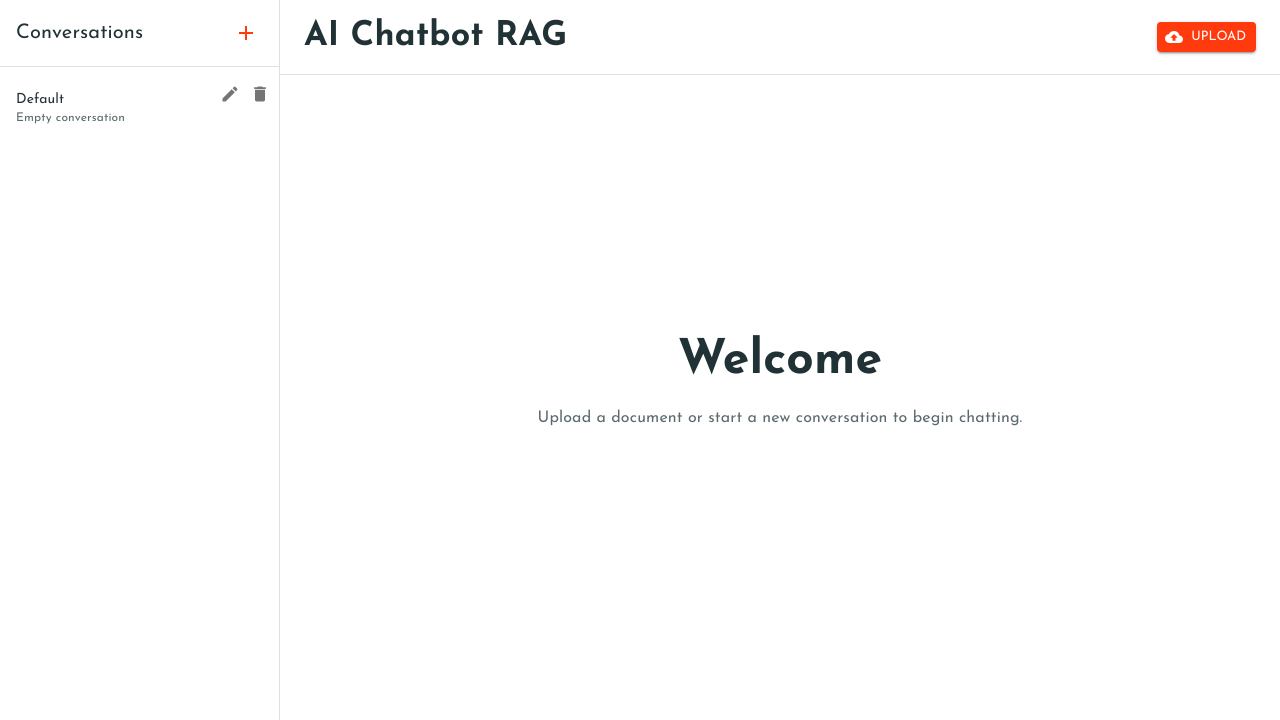
Test case: Home page › shows uploaded files for active conversation
Click the text "Default" at point(40, 100), box left=16, top=92, right=64, bottom=107
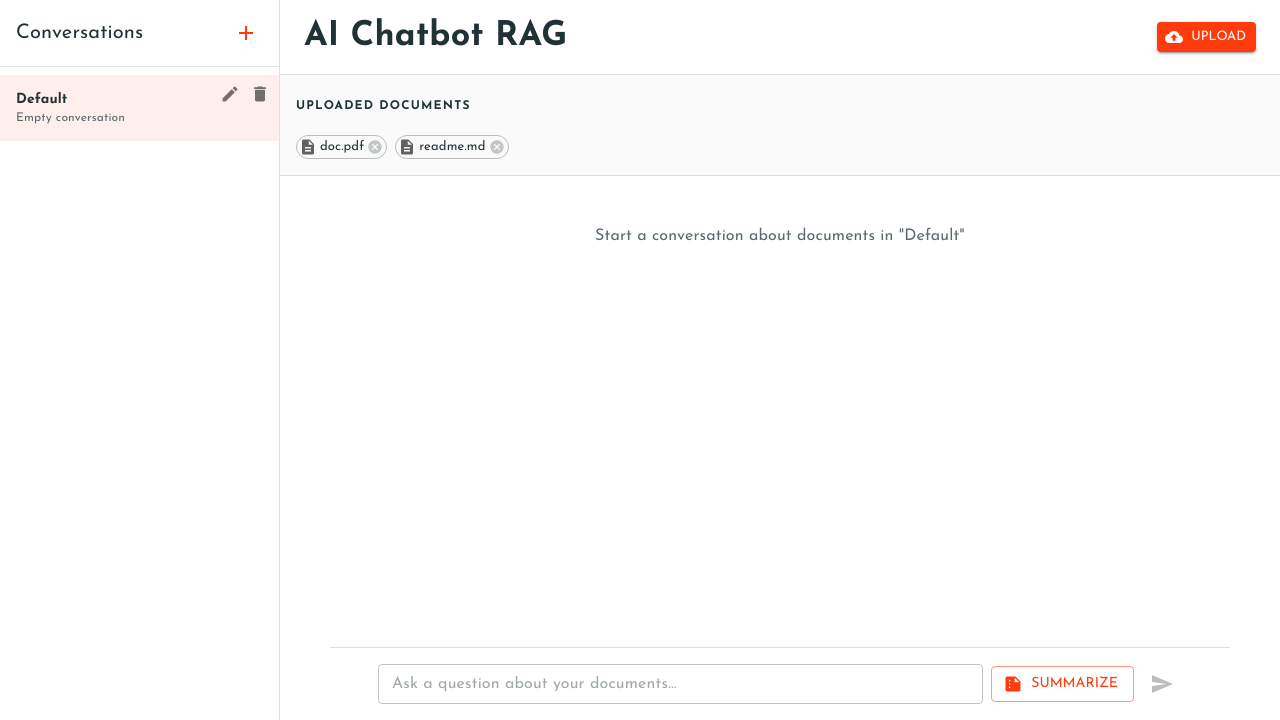
Check: the text "doc.pdf" is shown, box left=320, top=140, right=364, bottom=153
Check: the text "readme.md" is shown, box left=419, top=140, right=486, bottom=153
Check: the text "Uploaded documents" is shown, box left=296, top=100, right=471, bottom=112
